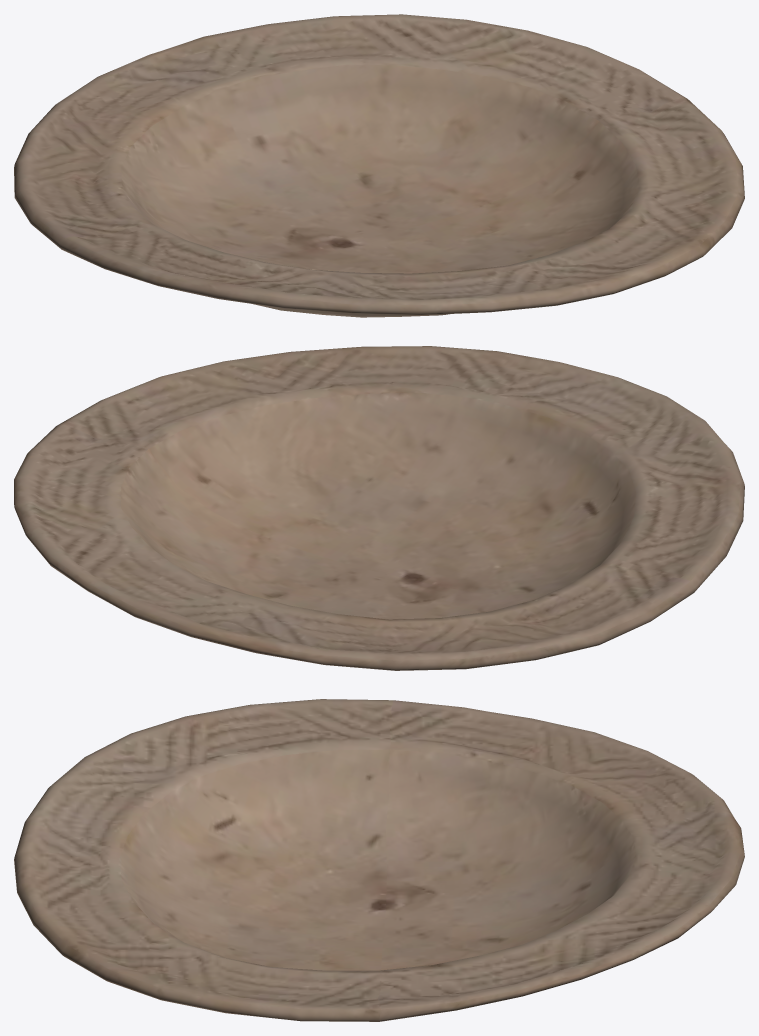
The model's file is ph-carved_wooden_plate.4c45303a3e9a.glb.
3 renders of one model, top to bottom at view 1: azimuth 30°, elevation 25°; view 2: azimuth 150°, elevation 25°; view 3: azimuth 270°, elevation 25°, orthographic. The views are drawn at different scales.
Visible parts, largest first — view 1: carved_wooden_plate; view 2: carved_wooden_plate; view 3: carved_wooden_plate.
Part boxes in pixels (x1,y1,x2,y2): carved_wooden_plate: [14, 14, 744, 317]; carved_wooden_plate: [14, 346, 744, 670]; carved_wooden_plate: [14, 699, 744, 1021].
Bounding box in the file's own units: 0.2718 × 0.0381 × 0.2688.
Materials: 1 (1 with a texture image).
